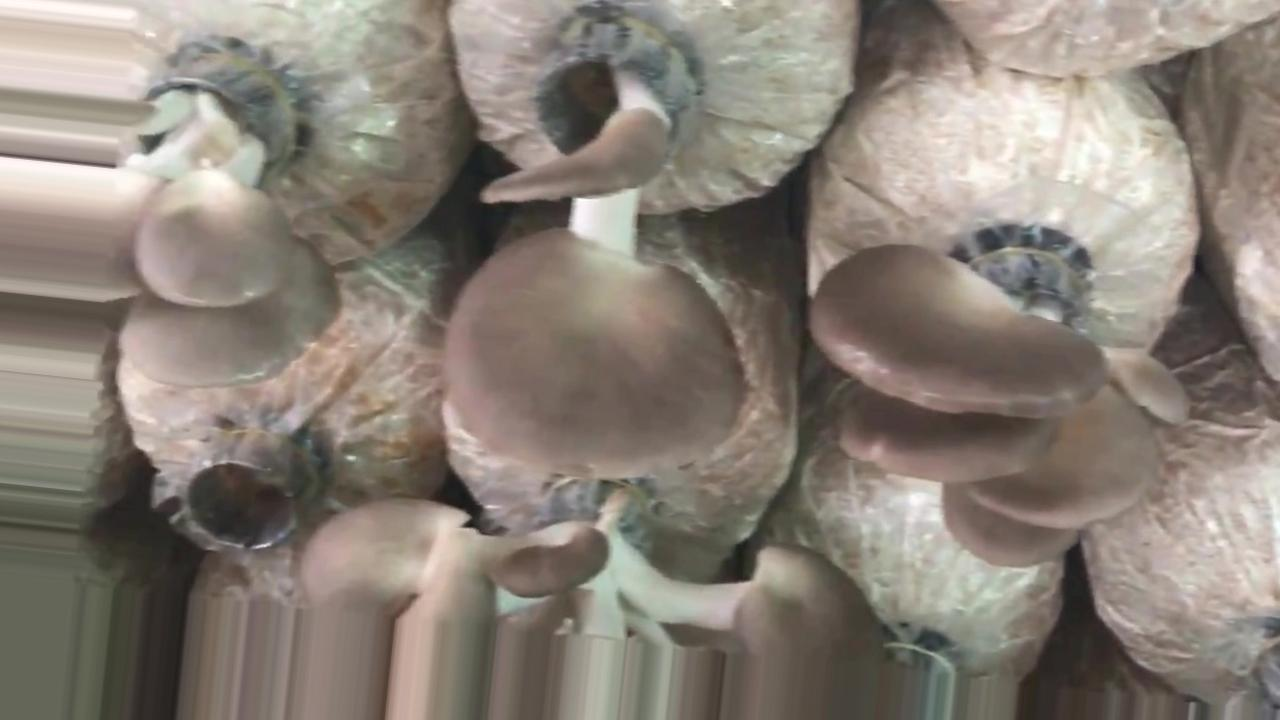nam: (445, 9, 750, 477), (292, 493, 891, 720), (806, 224, 1192, 573), (117, 37, 343, 393)
